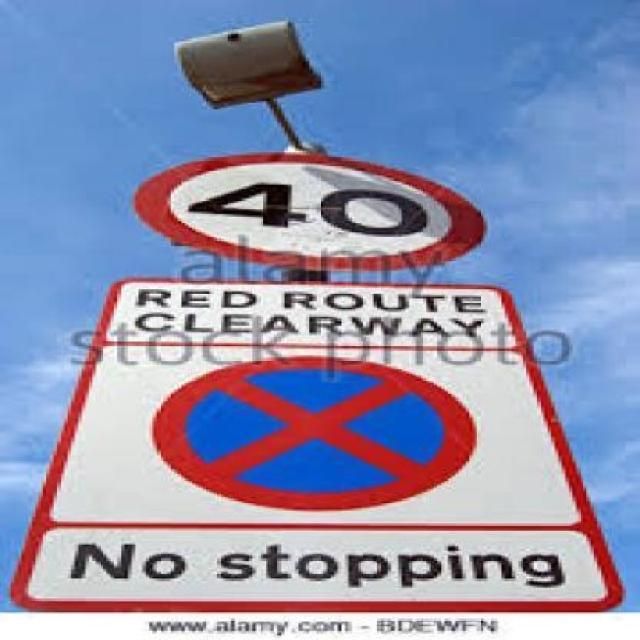forb_speed_over_40: (138, 155, 474, 263)
